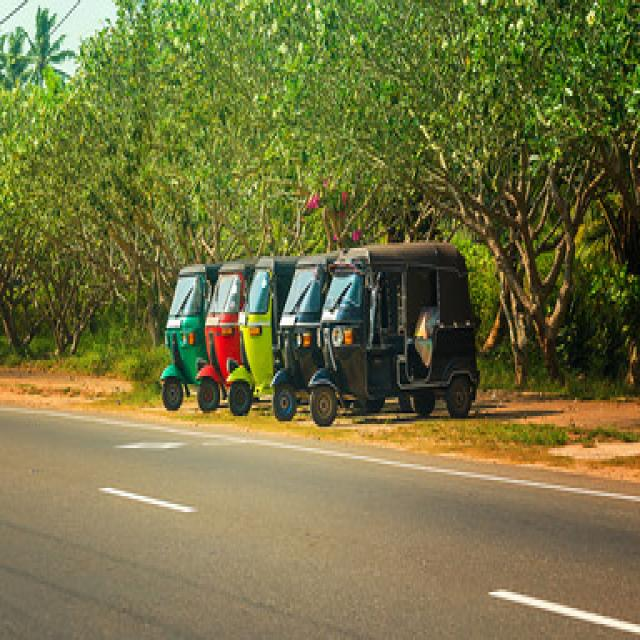three wheeler: (308, 243, 477, 427), (272, 253, 337, 421), (227, 256, 295, 416), (160, 264, 218, 411), (197, 259, 253, 411)
